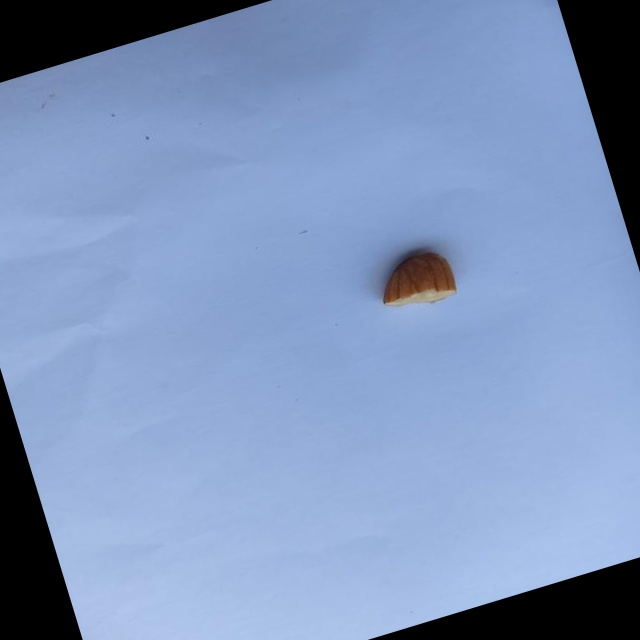grade4: (362, 237, 468, 323)
